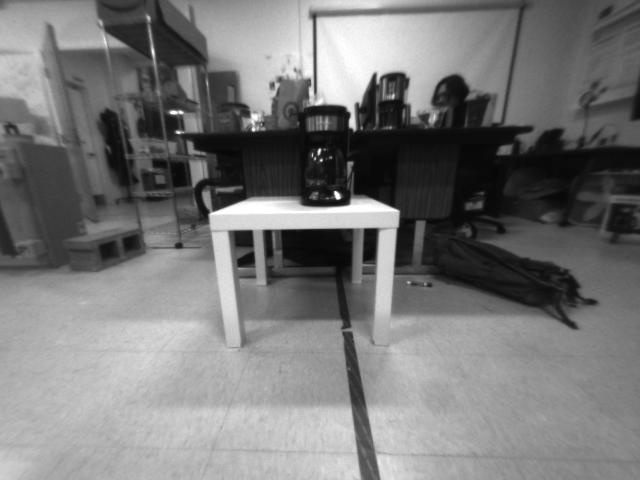coffee_pot: (292, 102, 356, 209)
